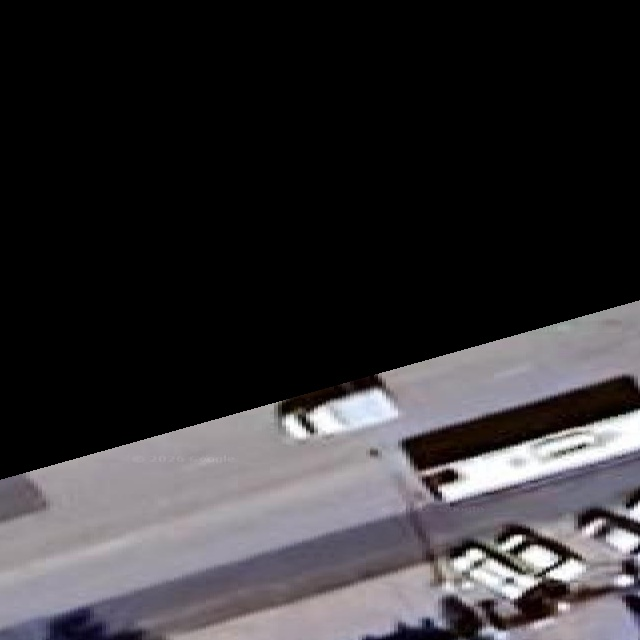car: (448, 540, 567, 619), (276, 375, 397, 439), (576, 495, 639, 587), (448, 540, 539, 600), (495, 524, 586, 582), (576, 507, 639, 556), (624, 487, 639, 522)
